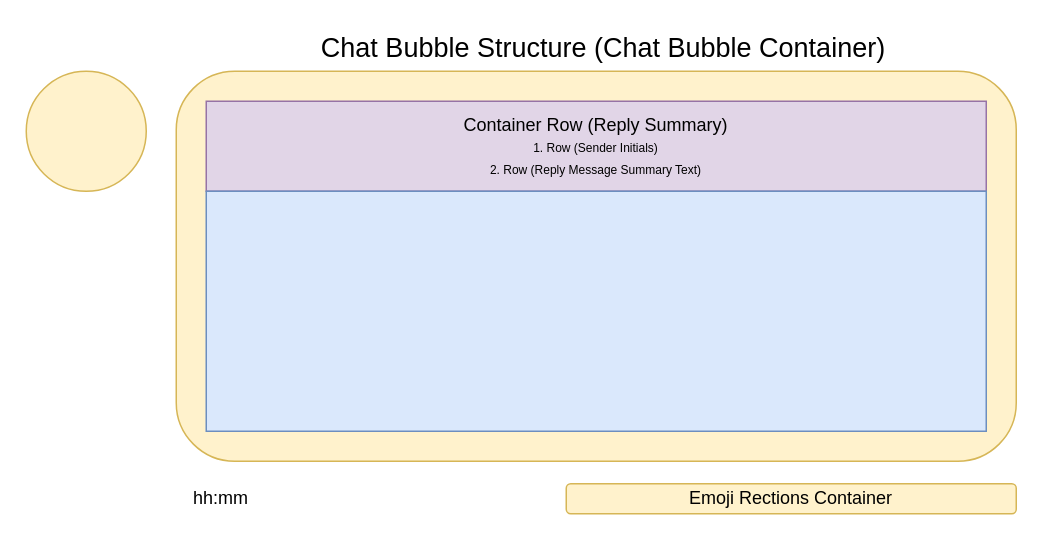
This 1043x546 diagram has some shape labels left out. Each missing label, with the centre of its shape:
"Avatar Image" belongs at pixel 85 130.
"Container Message Content 1. Row with (Text / Image Container / Video Container)" belongs at pixel 595 310.
